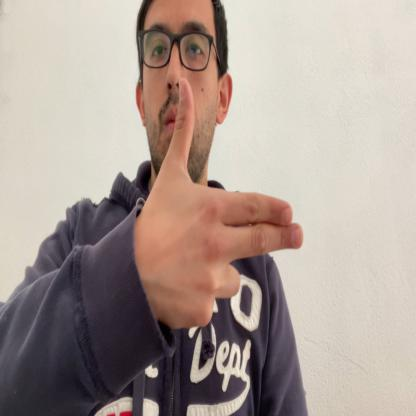H: (148, 74, 304, 330)
